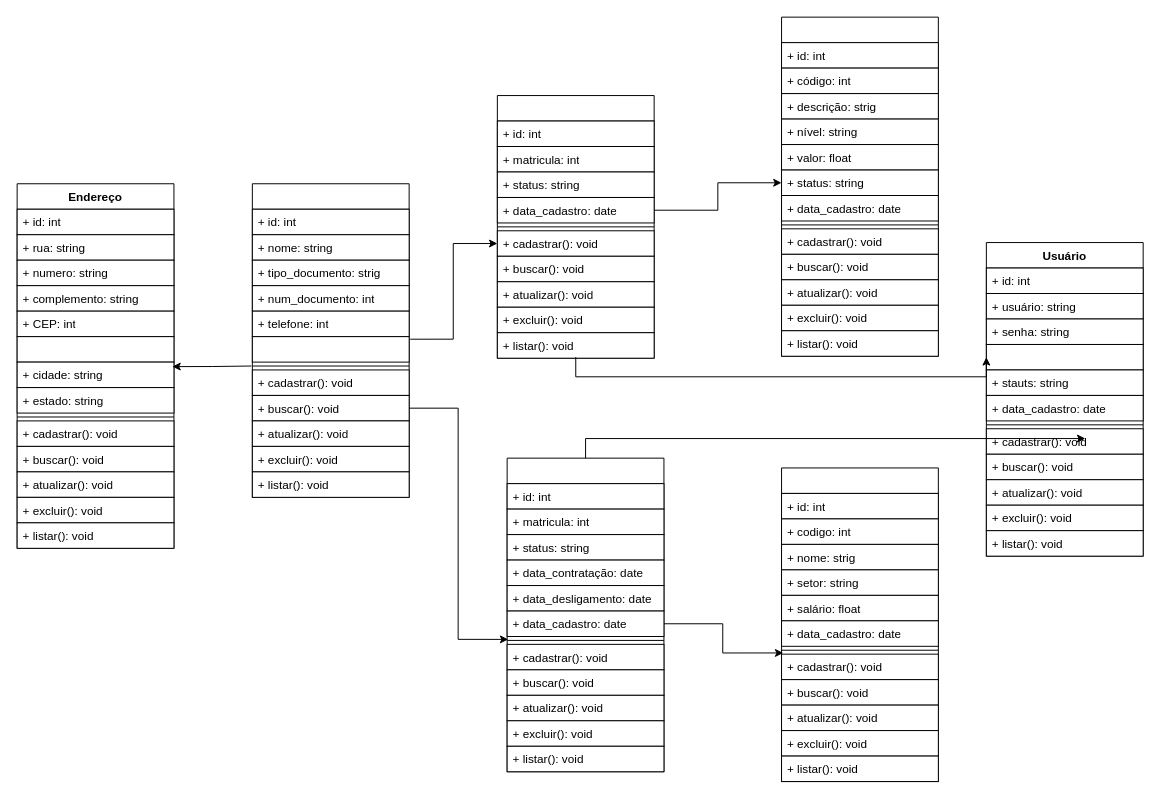
Some shapes in this 1160 by 802 pixel diagram are drawn without their labels. Here are the shapes that lost their labels. From the top down, the box of each, then its label:
(781, 16, 938, 356): Plano
(496, 95, 654, 358): Aluno
(16, 336, 174, 362): + bairro: string
(251, 183, 409, 497): Pessoa
(251, 336, 409, 362): + gênero: string
(985, 343, 1143, 370): + email: string
(506, 457, 664, 772): Funcionário
(781, 467, 938, 782): Cargo
